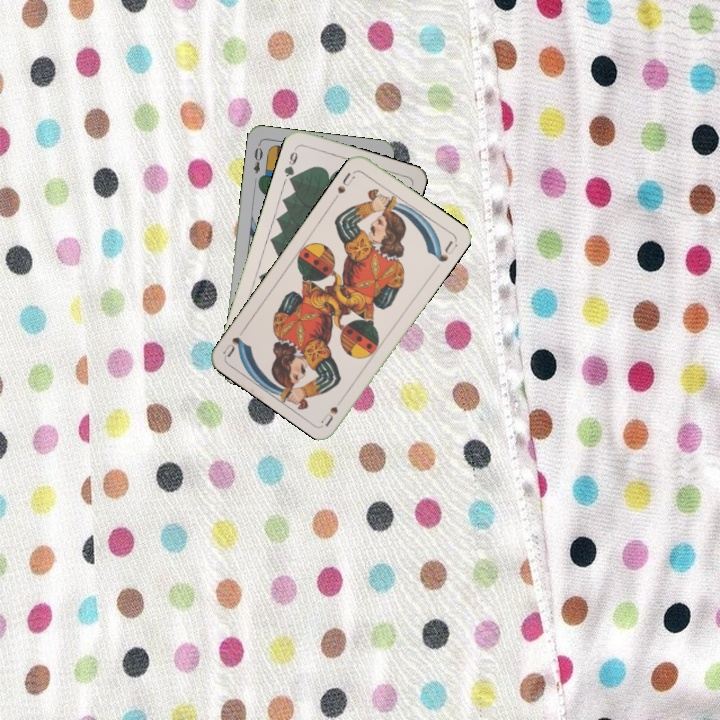EO: (250, 140, 265, 176)
G9: (280, 143, 300, 184)
SU: (330, 168, 357, 202), (318, 402, 341, 428)
